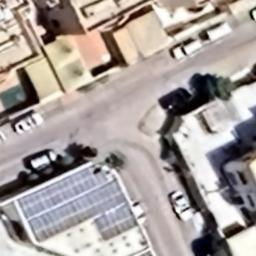SUV: (170, 38, 206, 60), (29, 149, 60, 172)
sedan: (170, 190, 198, 224), (14, 110, 44, 136)
